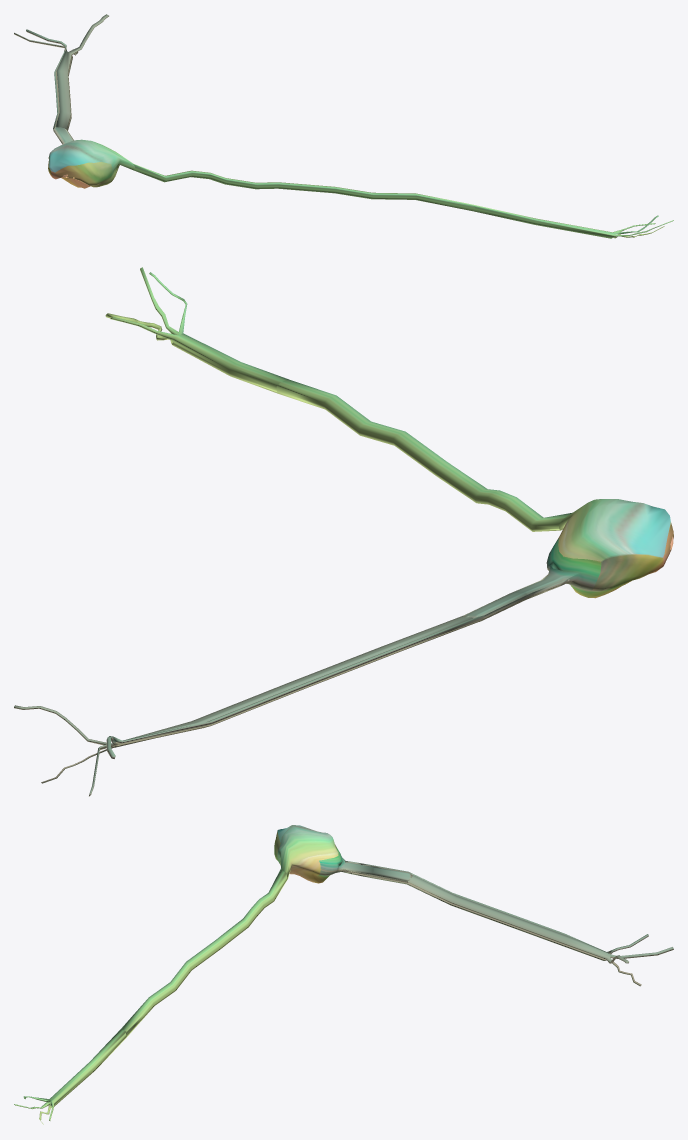
File: neuron9.fbx
The picture shows the model from 3 angles, top to bottom: view 1: azimuth 30°, elevation 25°; view 2: azimuth 150°, elevation 25°; view 3: azimuth 270°, elevation 25°; orthographic projection. The views are drawn at different scales.
Visible parts, largest first — view 1: done2.001; view 2: done2.001; view 3: done2.001.
Part boxes in pixels (x1,y1,x2,y2): done2.001: [14, 14, 673, 238]; done2.001: [14, 267, 673, 796]; done2.001: [14, 825, 673, 1124].
Size of the model in its own units: 10913 by 2140 by 13743.
